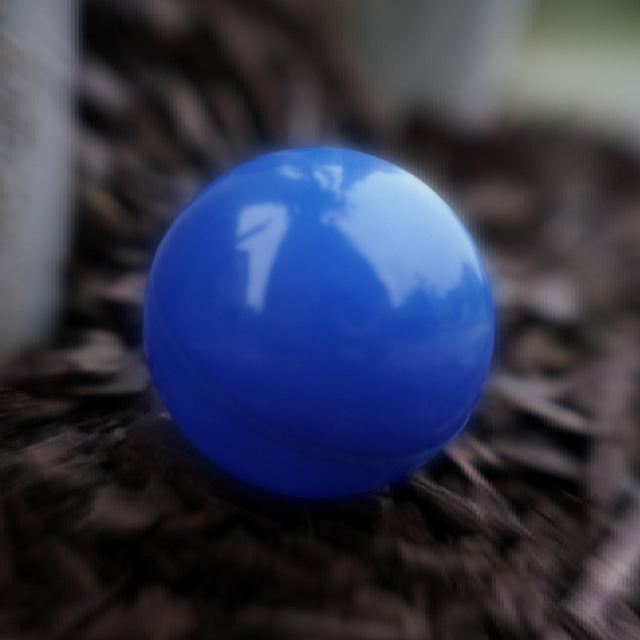Ball: (143, 146, 494, 498)
